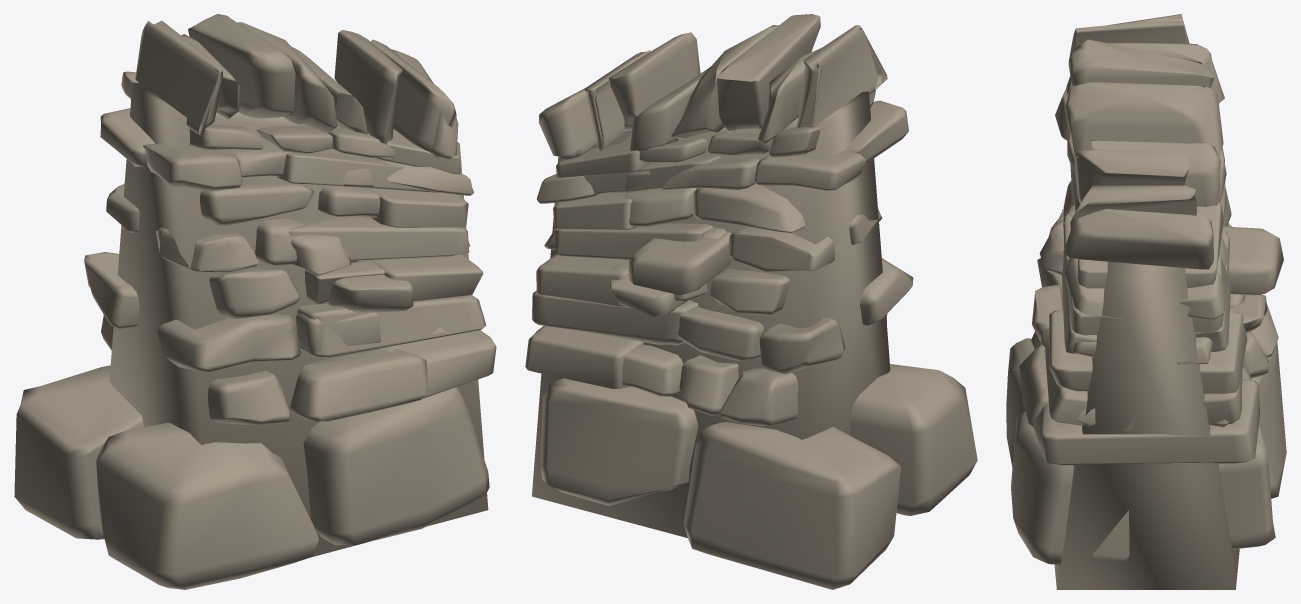
Rendered from boundary.dry_stone.end_d.glb.
3 views of the same model, side by side, from view 1: azimuth 30°, elevation 25°; view 2: azimuth 150°, elevation 25°; view 3: azimuth 270°, elevation 25° (orthographic). The views are drawn at different scales.
Parts seen in each view (by area): view 1: main__stone_a98; view 2: main__stone_a98; view 3: main__stone_a98.
Part boxes in pixels (left/top/right/bottom): main__stone_a98: left=14, top=14, right=496, bottom=589; main__stone_a98: left=525, top=14, right=977, bottom=589; main__stone_a98: left=1006, top=14, right=1286, bottom=589.
Size of the model in its own units: 1.25 by 1.65 by 0.913.
